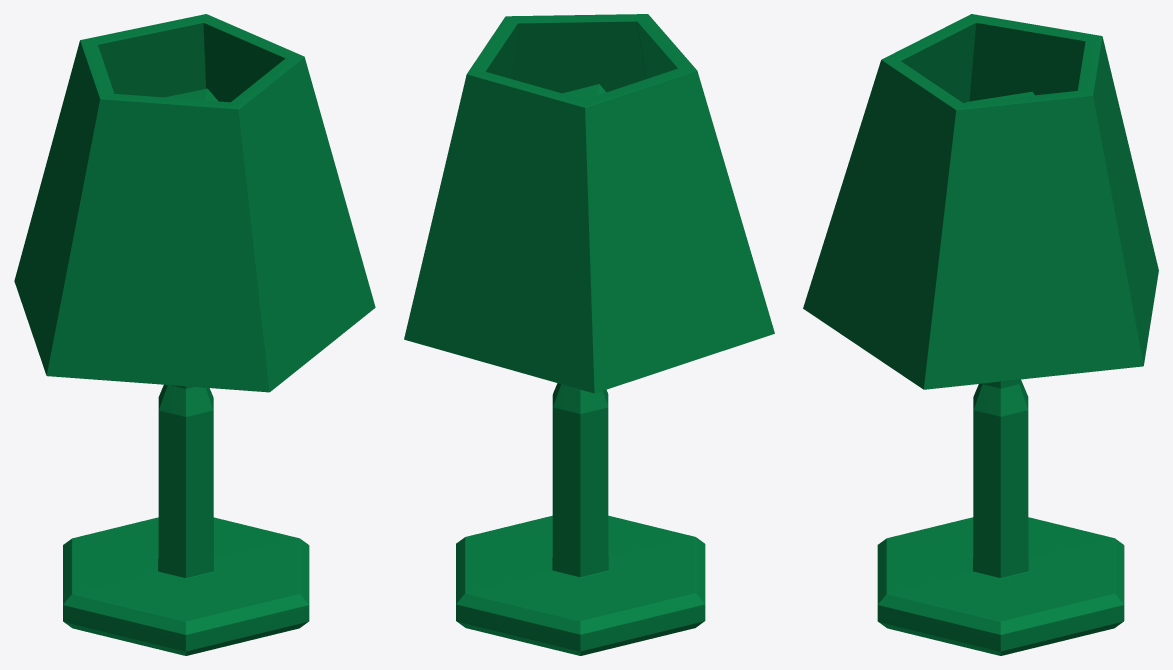
File: Lamp.fbx
3 views of the same model, side by side, from view 1: azimuth 30°, elevation 25°; view 2: azimuth 150°, elevation 25°; view 3: azimuth 270°, elevation 25° (orthographic).
Visible parts, largest first — view 1: polySurface47; view 2: polySurface47; view 3: polySurface47.
Boxes of the visible parts, x1,y1,x2,y2 form: polySurface47: (14,14,375,655); polySurface47: (404,14,774,655); polySurface47: (803,14,1158,655).
Bounding box in the file's own units: 90.39 × 146 × 87.84.
